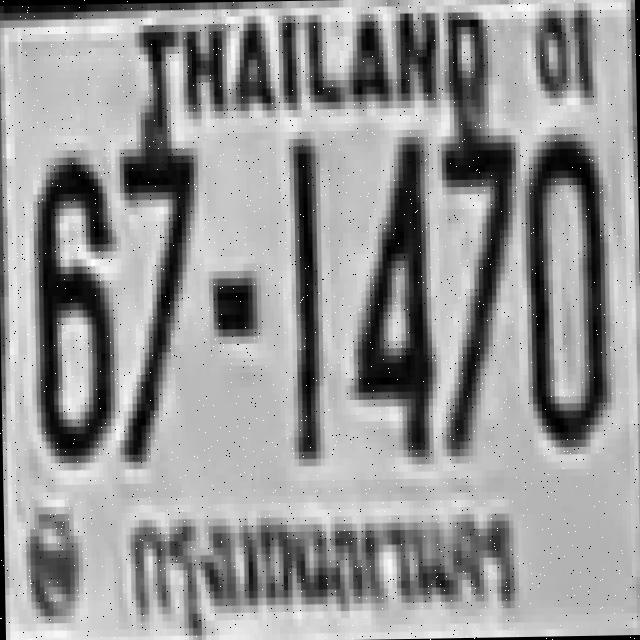0: (522, 126, 606, 440)
1: (286, 135, 322, 455)
4: (349, 130, 429, 450)
6: (30, 149, 114, 456)
7: (116, 130, 200, 458), (436, 120, 516, 450), (436, 120, 514, 362)
Bangkok: (126, 488, 523, 628)
